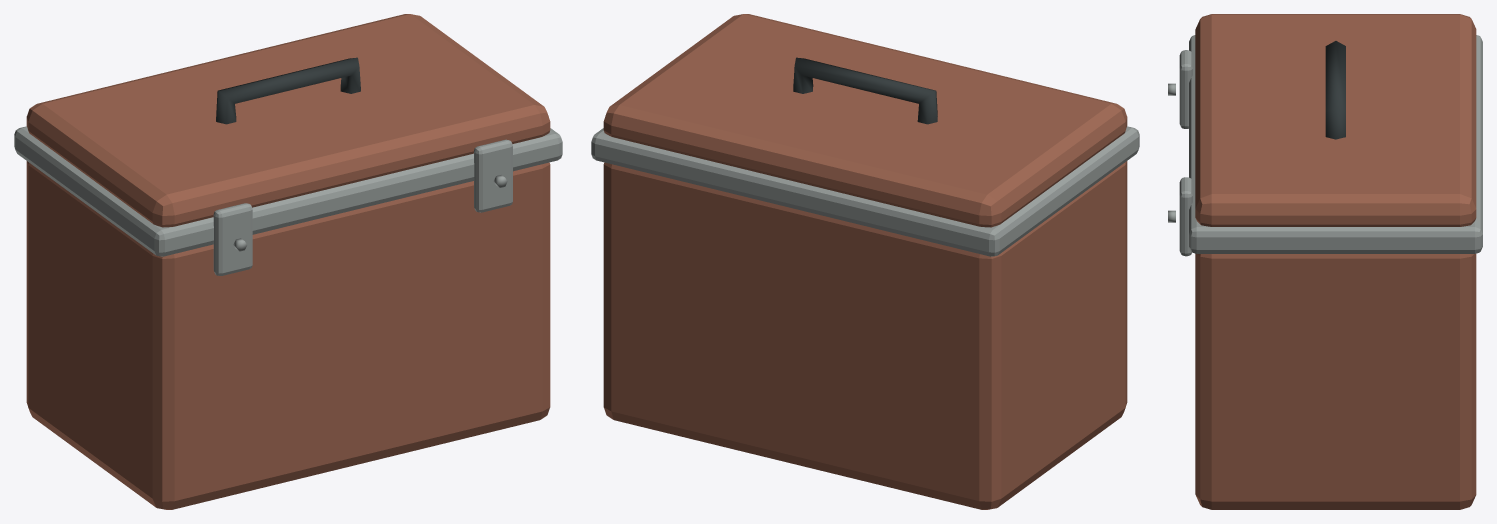
File: supply_toolbox.glb
The picture shows the model from 3 angles, left to right: view 1: azimuth 30°, elevation 25°; view 2: azimuth 150°, elevation 25°; view 3: azimuth 270°, elevation 25°; orthographic projection.
Visible parts, largest first — view 1: supply_toolbox; view 2: supply_toolbox; view 3: supply_toolbox.
Part boxes in pixels (<box>): supply_toolbox: <box>14,14,562,509</box>; supply_toolbox: <box>591,14,1139,509</box>; supply_toolbox: <box>1168,14,1482,509</box>.
Size of the model in its own units: 0.72 by 0.5827 by 0.482.
